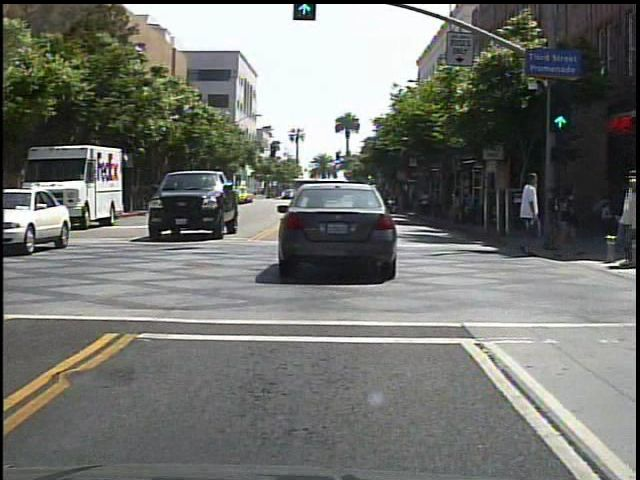person: (512, 160, 549, 258), (416, 187, 434, 219), (555, 174, 556, 257)
